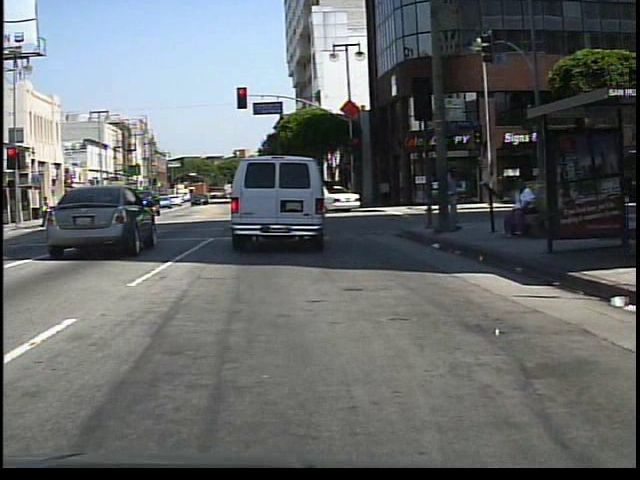person: (499, 177, 540, 240), (438, 165, 468, 238), (40, 194, 51, 229)
